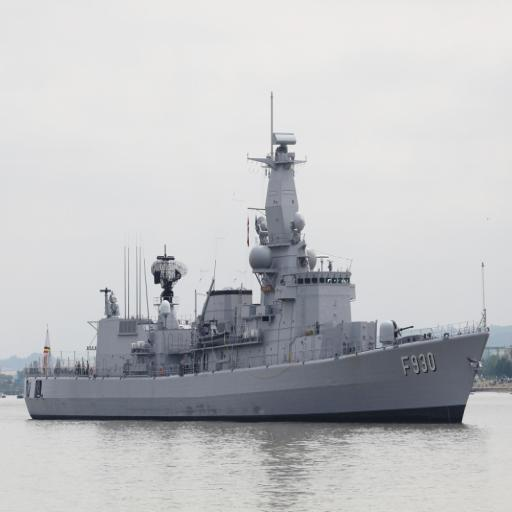Fragata: (23, 96, 492, 429)
